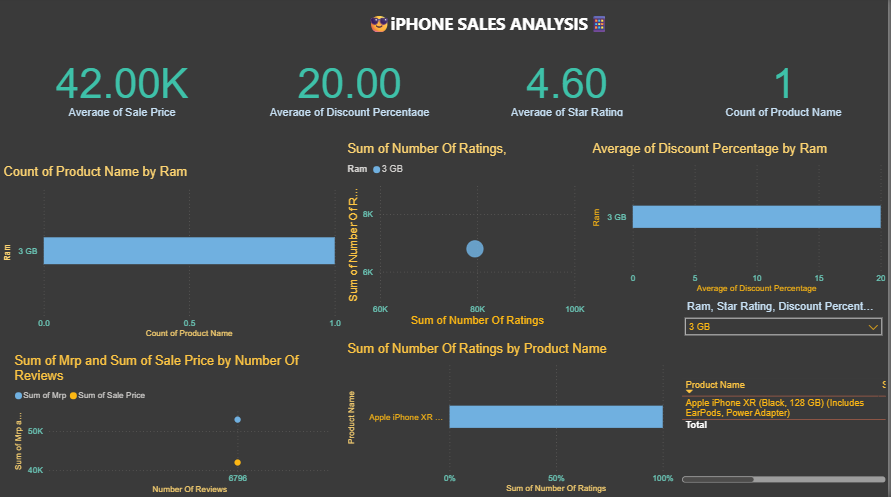

What the dashboard file says about the page in this screenshot:
{"tool":"powerbi","page":{"name":"Page 1","canvas":[1280,720],"ordinal":0},"visuals":[{"type":"card","fields":{"Values":["Avg(apple_products (2).Sale Price)"]},"box":[16,80,320,96],"z":0},{"type":"card","fields":{"Values":["Avg(apple_products (2).Discount Percentage)"]},"box":[336,80,336,96],"z":1000},{"type":"card","fields":{"Values":["Count(apple_products (2).Product Name)"]},"box":[976,80,304,96],"z":2000},{"type":"card","fields":{"Values":["Avg(apple_products (2).Star Rating)"]},"box":[656,80,320,96],"z":3000},{"type":"clusteredBarChart","fields":{"Category":["apple_products (2).Ram"],"Y":["CountNonNull(apple_products (2).Product Name)"]},"box":[0,240,496,256],"z":4000},{"type":"barChart","fields":{"Category":["apple_products (2).Ram"],"Y":["Avg(apple_products (2).Discount Percentage)"]},"box":[848,208,432,224],"z":5000},{"type":"hundredPercentStackedBarChart","fields":{"Y":["Sum(apple_products (2).Number Of Ratings)"],"Category":["apple_products (2).Product Name"]},"box":[496,496,480,224],"z":6000},{"type":"lineChart","fields":{"Category":["apple_products (2).Number Of Reviews"],"Y":["Sum(apple_products (2).Mrp)","Sum(apple_products (2).Sale Price)"]},"box":[16,512,464,208],"z":7000},{"type":"scatterChart","title":"Sum of Number Of Ratings,","fields":{"X":["Sum(apple_products (2).Number Of Ratings)"],"Y":["Sum(apple_products (2).Number Of Reviews)"],"Size":["Sum(apple_products (2).Discount Percentage)"],"Series":["apple_products (2).Ram"]},"box":[496,208,352,272],"z":8000},{"type":"slicer","fields":{"Values":["apple_products (2).Ram","apple_products (2).Star Rating","apple_products (2).Discount Percentage","apple_products (2).Sale Price"]},"box":[976,432,304,112],"z":9000},{"type":"tableEx","fields":{"Values":["apple_products (2).Product Name","Sum(apple_products (2).Sale Price)","Sum(apple_products (2).Mrp)","Sum(apple_products (2).Discount Percentage)","Sum(apple_products (2).Star Rating)","apple_products (2).Ram"]},"box":[976,544,304,160],"z":10000},{"type":"textbox","box":[384,16,640,48],"z":11000}]}

Visuals, with their boxes in screenshot pixels (x1, y1, x2, y2), scaled from the page's 1280x720 canvas onto the 891x497 screenshot:
card - Avg(apple_products (2).Sale Price): (x1=11, y1=55, x2=234, y2=121)
card - Avg(apple_products (2).Discount Percentage): (x1=234, y1=55, x2=468, y2=121)
card - Count(apple_products (2).Product Name): (x1=679, y1=55, x2=890, y2=121)
card - Avg(apple_products (2).Star Rating): (x1=457, y1=55, x2=679, y2=121)
clusteredBarChart - apple_products (2).Ram x CountNonNull(apple_products (2).Product Name): (x1=0, y1=166, x2=345, y2=342)
barChart - apple_products (2).Ram x Avg(apple_products (2).Discount Percentage): (x1=590, y1=144, x2=890, y2=298)
hundredPercentStackedBarChart - Sum(apple_products (2).Number Of Ratings) x apple_products (2).Product Name: (x1=345, y1=342, x2=679, y2=496)
lineChart - apple_products (2).Number Of Reviews x Sum(apple_products (2).Mrp): (x1=11, y1=353, x2=334, y2=496)
"Sum of Number Of Ratings," scatterChart: (x1=345, y1=144, x2=590, y2=331)
slicer - apple_products (2).Ram x apple_products (2).Star Rating: (x1=679, y1=298, x2=890, y2=376)
tableEx - apple_products (2).Product Name x Sum(apple_products (2).Sale Price): (x1=679, y1=376, x2=890, y2=486)
textbox: (x1=267, y1=11, x2=713, y2=44)
